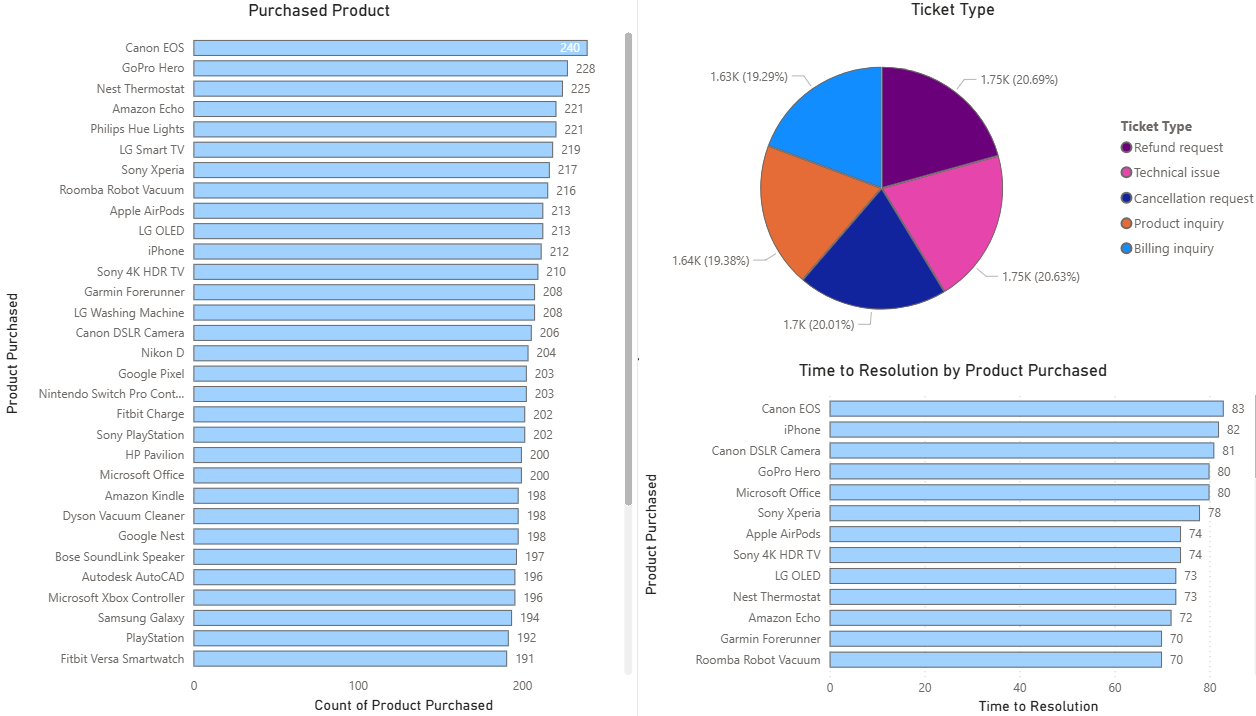

Layout of this report page (visuals, bound fields, positions):
{"tool":"powerbi","page":{"name":"Product Insights","canvas":[1280,720],"ordinal":1},"visuals":[{"type":"barChart","title":"Purchased Product","fields":{"Category":["tickets.Product Purchased"],"Y":["CountNonNull(tickets.Product Purchased)"]},"box":[9.8,0,640.8,720.2],"z":0},{"type":"pieChart","title":"Ticket Type","fields":{"Category":["tickets.Ticket Type"],"Y":["CountNonNull(tickets.Ticket Type)"]},"box":[650.5,0,629.8,359.5],"z":1},{"type":"clusteredBarChart","fields":{"Category":["tickets.Product Purchased"],"Y":["CountNonNull(tickets.Time to Resolution)"]},"box":[650.5,360.7,629.8,359.5],"z":2}]}

Visuals, with their boxes in screenshot pixels (x1, y1, x2, y2), scaled from the page's 1280x720 canvas onto the 1256x716 screenshot:
"Purchased Product" barChart: box=[10, 0, 638, 715]
"Ticket Type" pieChart: box=[638, 0, 1255, 358]
clusteredBarChart - tickets.Product Purchased x CountNonNull(tickets.Time to Resolution): box=[638, 359, 1255, 715]
